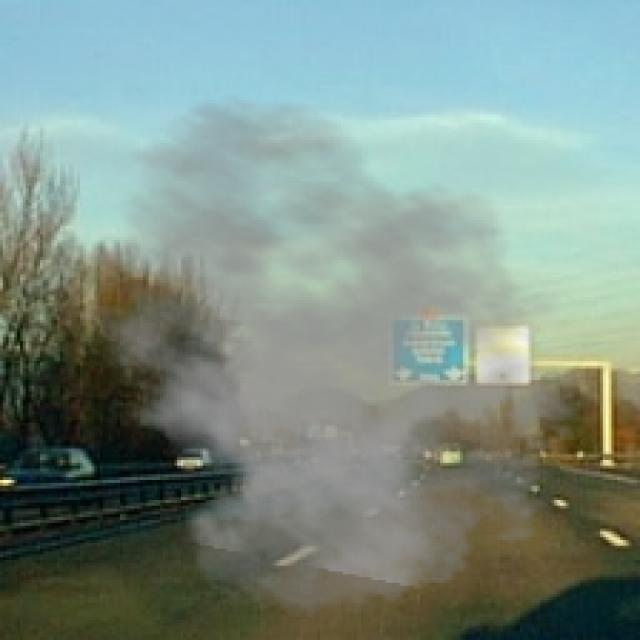Smoke: (51, 94, 600, 626)
